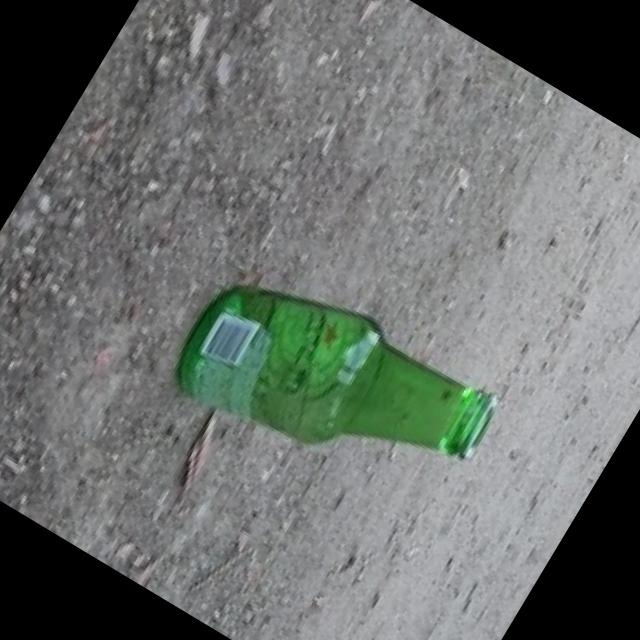BotolKaca: (114, 239, 510, 616)
